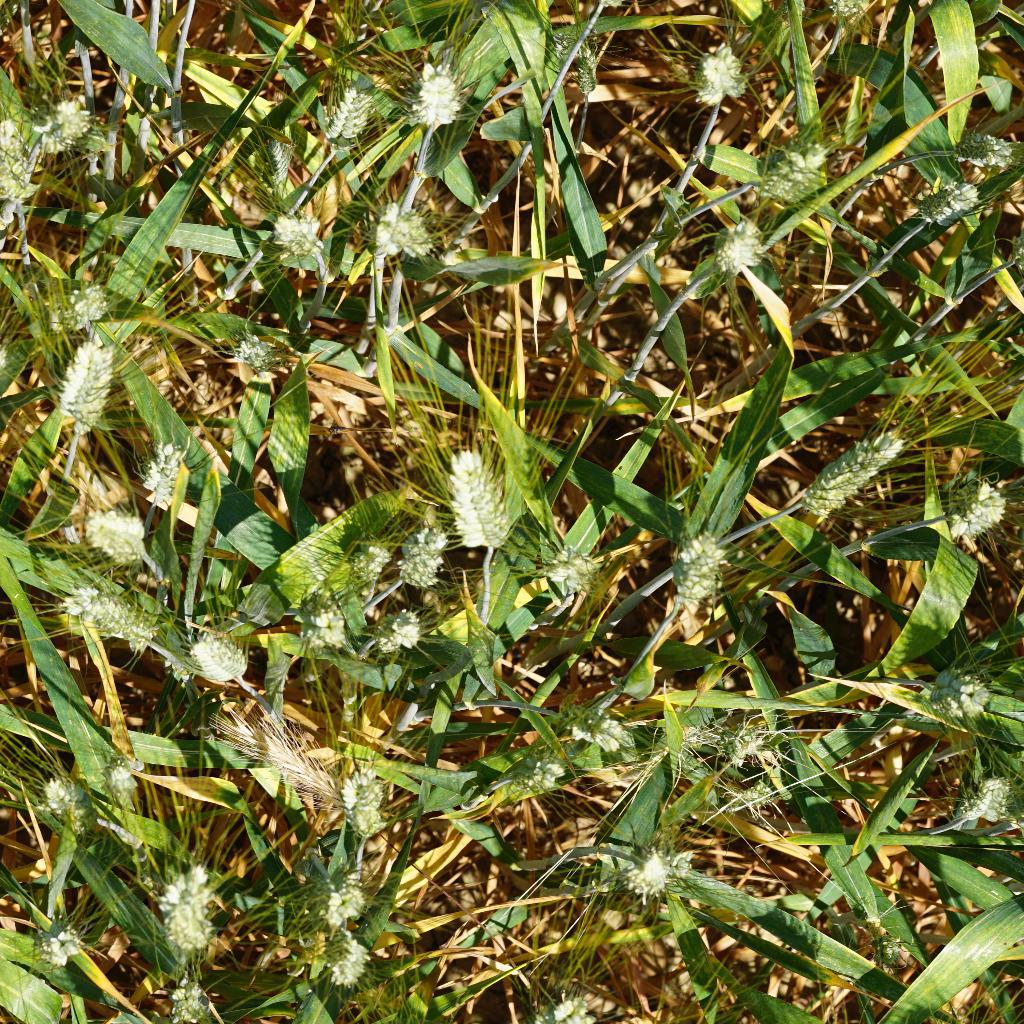0-0: (218, 706, 356, 816), (791, 410, 901, 527), (443, 433, 520, 567), (55, 574, 168, 661), (57, 324, 126, 446), (743, 130, 836, 217), (139, 858, 220, 955), (325, 751, 407, 844), (64, 499, 160, 576), (393, 38, 464, 135), (653, 529, 728, 612), (933, 463, 1004, 548), (355, 194, 430, 271), (311, 68, 374, 150), (626, 837, 702, 904), (176, 617, 249, 686), (694, 36, 752, 120), (217, 317, 287, 384), (908, 161, 972, 234), (287, 591, 348, 665), (701, 215, 765, 284), (925, 664, 994, 728), (25, 94, 92, 159), (392, 514, 448, 589), (246, 123, 303, 193), (559, 701, 628, 758), (59, 264, 115, 332), (89, 742, 148, 806), (964, 116, 1015, 190), (960, 766, 1019, 828), (272, 201, 325, 269), (336, 522, 389, 590), (321, 926, 373, 995), (493, 743, 560, 796), (296, 874, 363, 925), (366, 601, 428, 656), (854, 913, 907, 977), (153, 971, 216, 1024), (27, 918, 92, 968), (715, 716, 777, 766), (135, 445, 191, 500), (291, 913, 336, 977), (34, 769, 82, 829), (648, 713, 702, 765), (0, 111, 27, 212), (546, 538, 595, 591), (568, 22, 601, 99), (819, 0, 884, 37), (723, 780, 783, 815)
